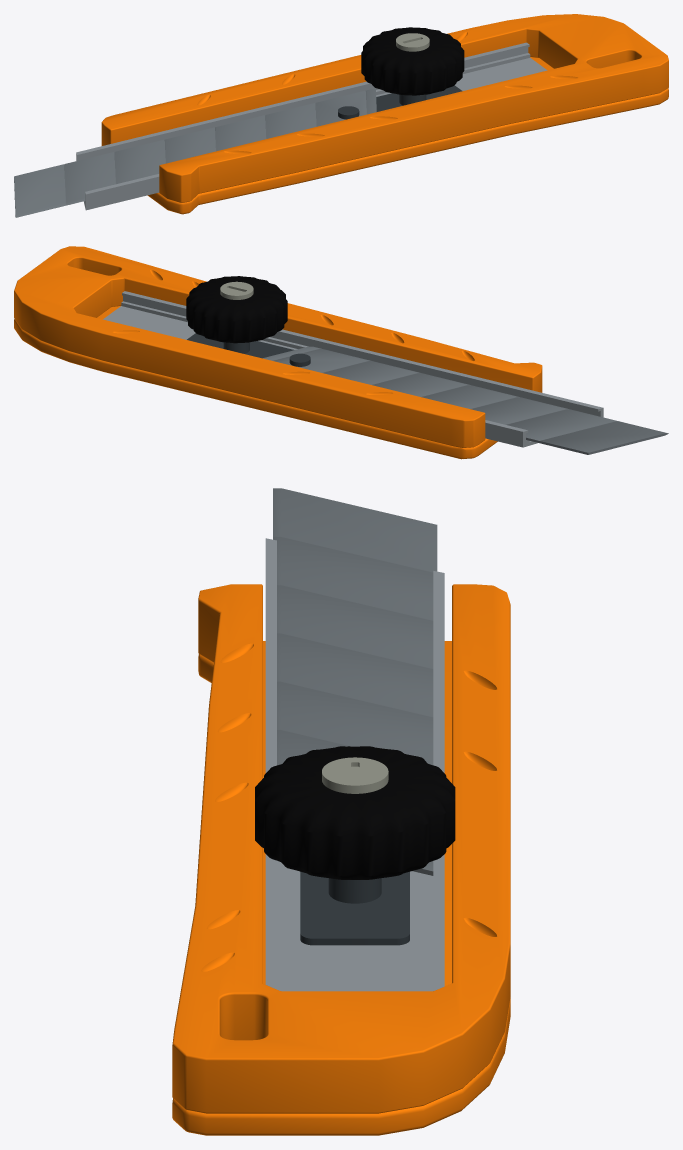
3 views of the same model, one above another, from view 1: azimuth 30°, elevation 25°; view 2: azimuth 150°, elevation 25°; view 3: azimuth 270°, elevation 25° (orthographic). The views are drawn at different scales.
Parts seen in each view (by area): view 1: part_002_Open_channel_grip_shell, part_003_Installed_scored_blade, part_005_Folded_blade_guide, part_004_Grip_back_shell, part_006_Fluted_locking_dial, part_000_Sliding_clamp_carrier, part_001_Round_centre_fastener; view 2: part_002_Open_channel_grip_shell, part_003_Installed_scored_blade, part_005_Folded_blade_guide, part_004_Grip_back_shell, part_006_Fluted_locking_dial, part_000_Sliding_clamp_carrier, part_001_Round_centre_fastener; view 3: part_002_Open_channel_grip_shell, part_003_Installed_scored_blade, part_006_Fluted_locking_dial, part_005_Folded_blade_guide, part_004_Grip_back_shell, part_000_Sliding_clamp_carrier, part_001_Round_centre_fastener.
Part boxes in pixels (left/top/right/bottom): part_002_Open_channel_grip_shell: left=101, top=14, right=668, bottom=202; part_003_Installed_scored_blade: left=14, top=88, right=376, bottom=217; part_005_Folded_blade_guide: left=76, top=42, right=547, bottom=210; part_004_Grip_back_shell: left=147, top=57, right=668, bottom=214; part_006_Fluted_locking_dial: left=361, top=27, right=464, bottom=95; part_000_Sliding_clamp_carrier: left=338, top=85, right=462, bottom=119; part_001_Round_centre_fastener: left=396, top=33, right=429, bottom=51; part_002_Open_channel_grip_shell: left=14, top=246, right=542, bottom=447; part_003_Installed_scored_blade: left=263, top=346, right=668, bottom=454; part_005_Folded_blade_guide: left=103, top=291, right=603, bottom=447; part_004_Grip_back_shell: left=14, top=306, right=497, bottom=459; part_006_Fluted_locking_dial: left=186, top=276, right=287, bottom=343; part_000_Sliding_clamp_carrier: left=187, top=333, right=310, bottom=366; part_001_Round_centre_fastener: left=220, top=281, right=253, bottom=299; part_002_Open_channel_grip_shell: left=172, top=584, right=510, bottom=1113; part_003_Installed_scored_blade: left=273, top=488, right=437, bottom=875; part_006_Fluted_locking_dial: left=255, top=746, right=455, bottom=879; part_005_Folded_blade_guide: left=265, top=538, right=444, bottom=991; part_004_Grip_back_shell: left=172, top=641, right=510, bottom=1135; part_000_Sliding_clamp_carrier: left=300, top=871, right=409, bottom=945; part_001_Round_centre_fastener: left=322, top=757, right=388, bottom=793.
Bounding box in the file's own units: 0.158 × 0.019 × 0.037.
